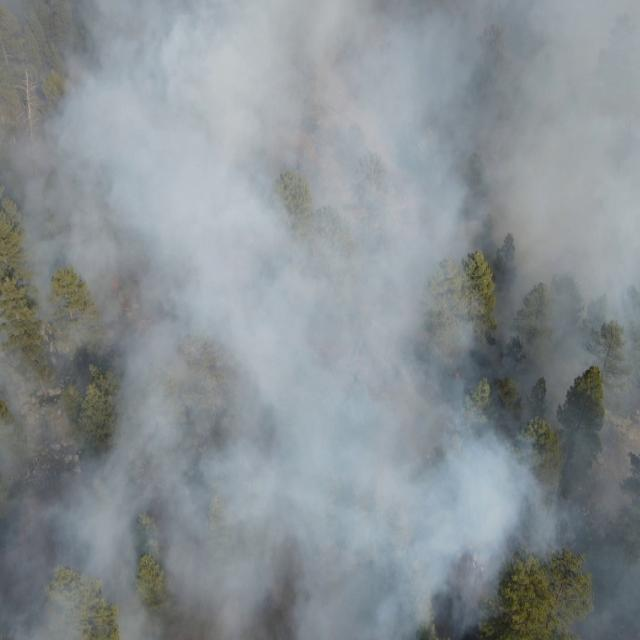fire: (108, 275, 122, 287)
smoke: (0, 0, 498, 640), (499, 0, 640, 555), (569, 556, 640, 640)
